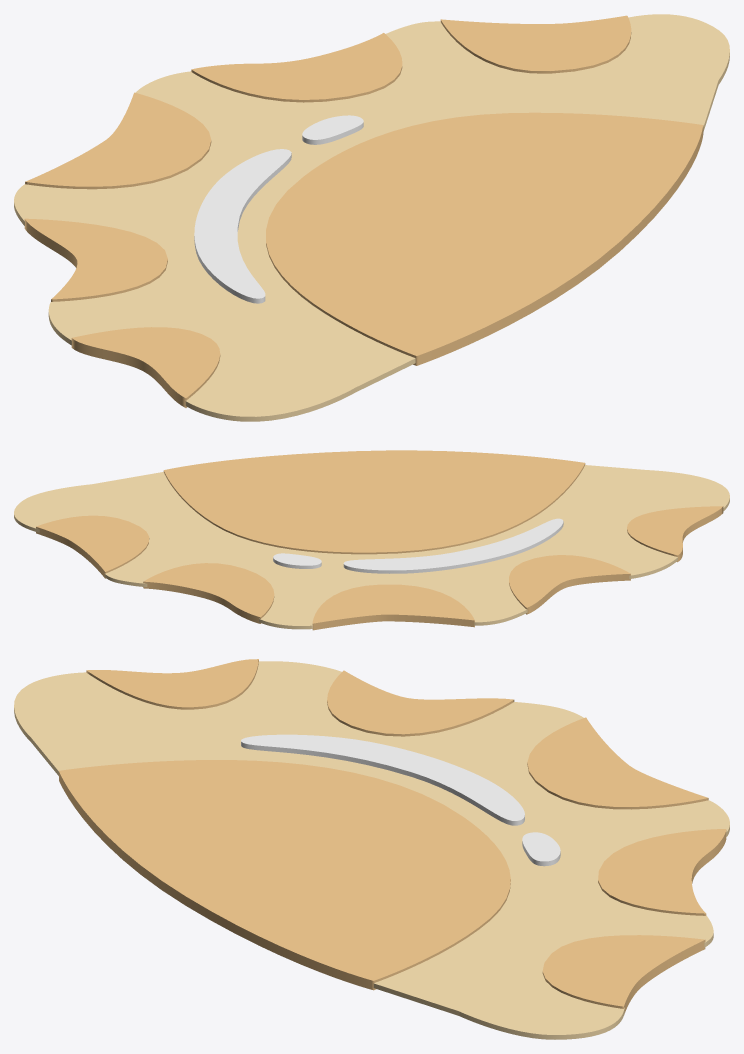
Rendered from emoji_u1f95f.glb.
3 renders of one model, top to bottom at view 1: azimuth 30°, elevation 25°; view 2: azimuth 150°, elevation 25°; view 3: azimuth 270°, elevation 25°, orthographic. The views are drawn at different scales.
Parts seen in each view (by area): view 1: emoji_u1f95f; view 2: emoji_u1f95f; view 3: emoji_u1f95f.
Part boxes in pixels (x1,y1,x2,y2): emoji_u1f95f: [14, 14, 729, 421]; emoji_u1f95f: [14, 450, 729, 630]; emoji_u1f95f: [14, 659, 729, 1039].
Size of the model in its own units: 0.034 by 0.0006 by 0.0275.
